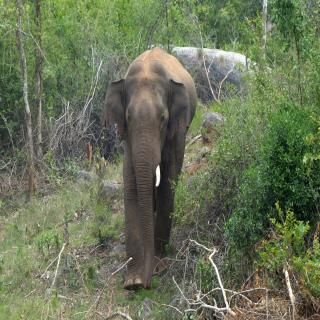Elephant: (102, 42, 199, 287)
